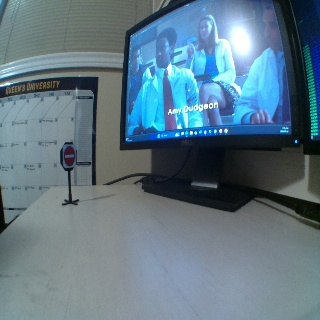sign_noentry: (61, 144, 75, 167)
